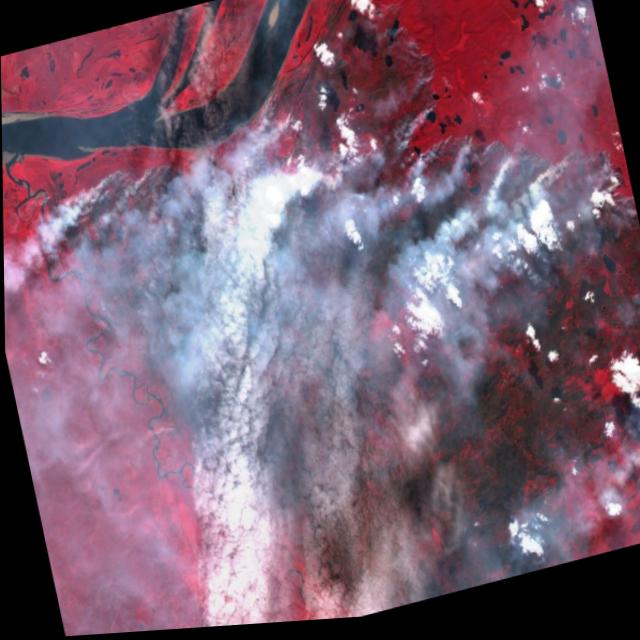fire: (37, 0, 640, 592)
